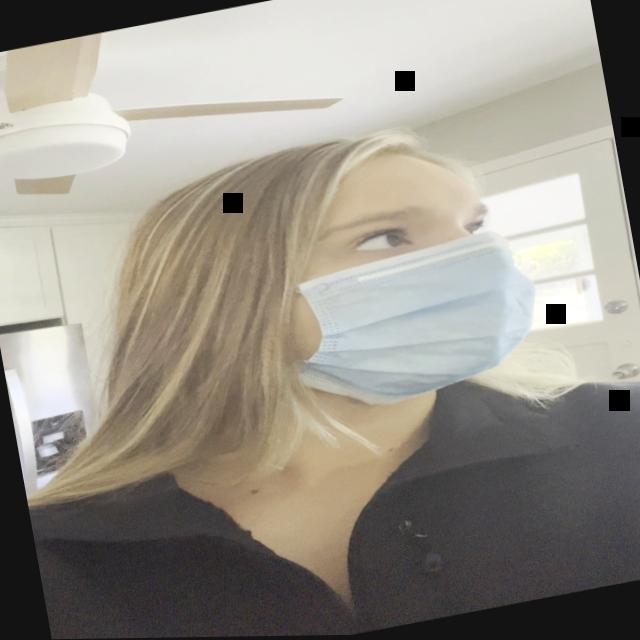Mask: (252, 132, 550, 421)
